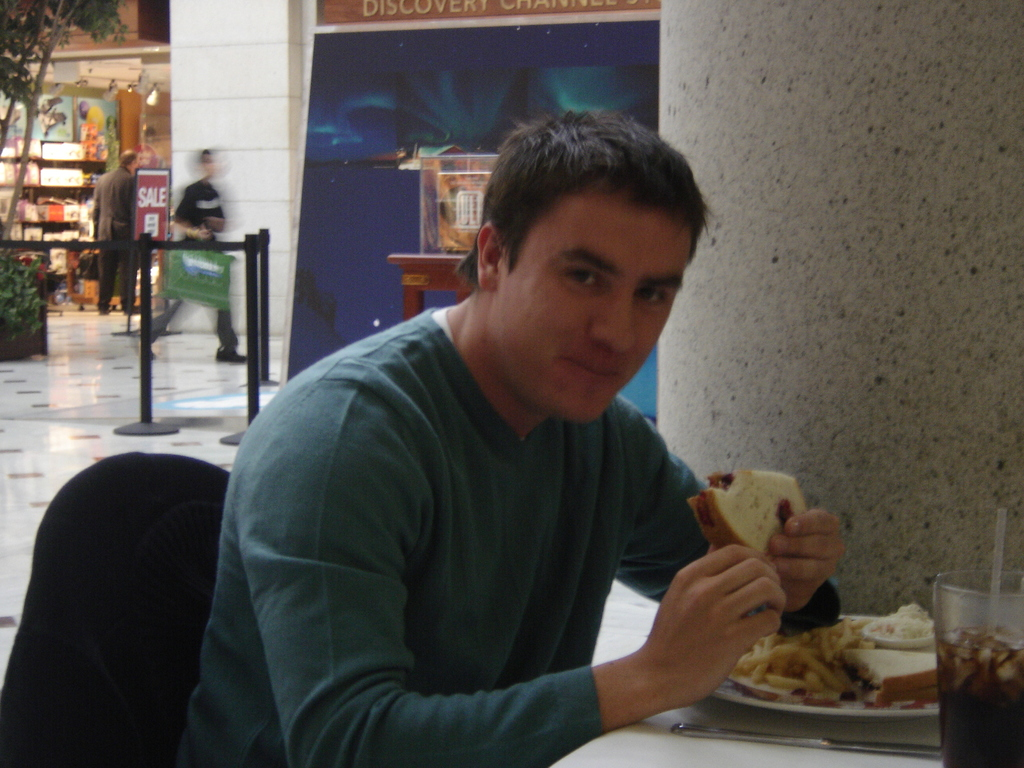French fries: (735, 611, 875, 700)
